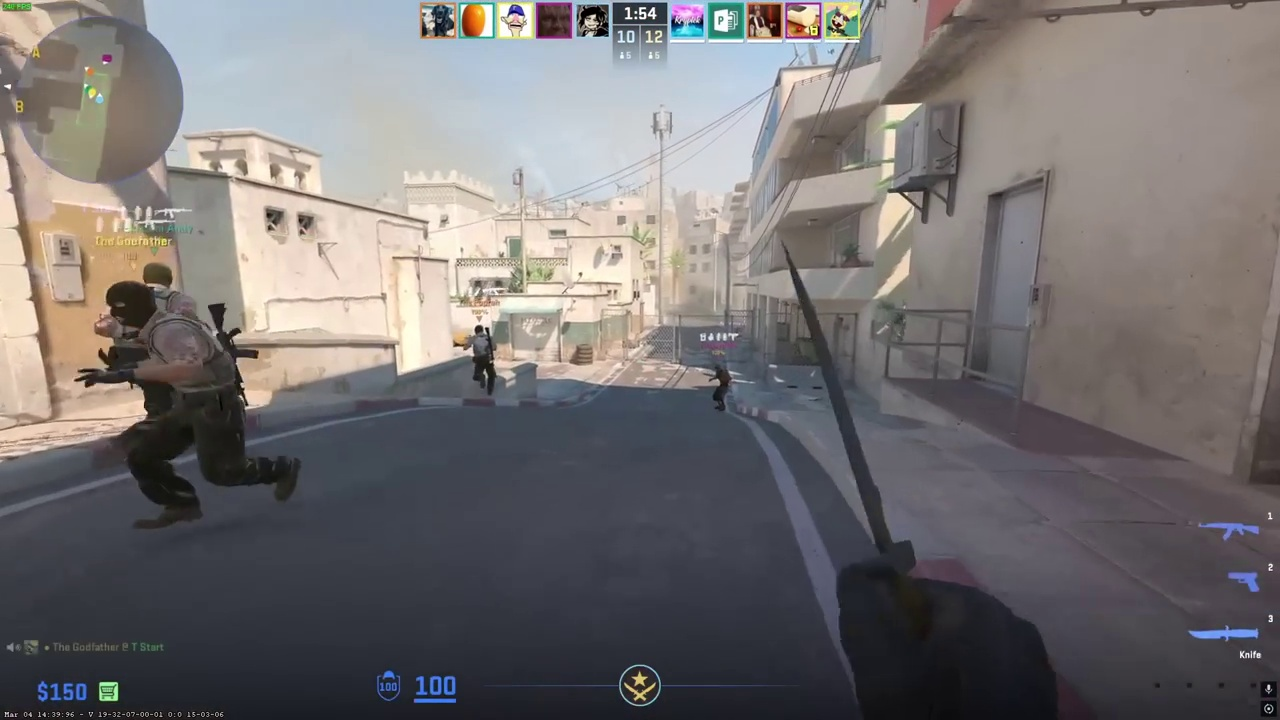Terrorist: (97, 281, 259, 530), (142, 261, 196, 321), (469, 325, 497, 395), (711, 364, 730, 411)
